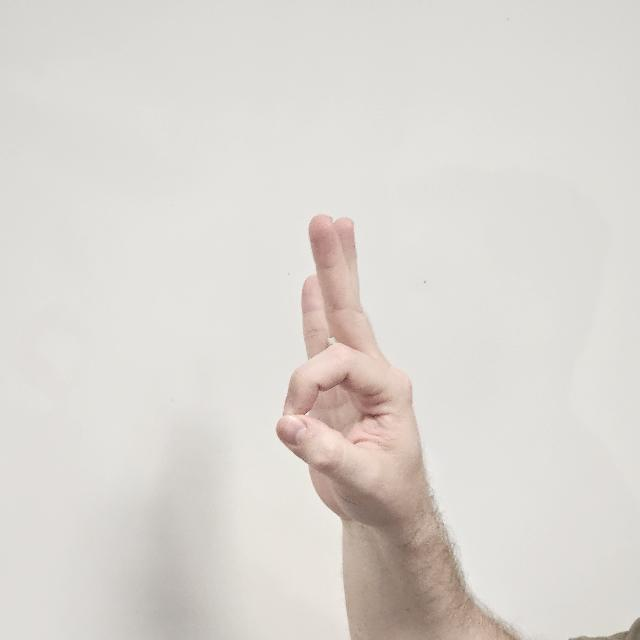Bolinha: (272, 209, 442, 553)
